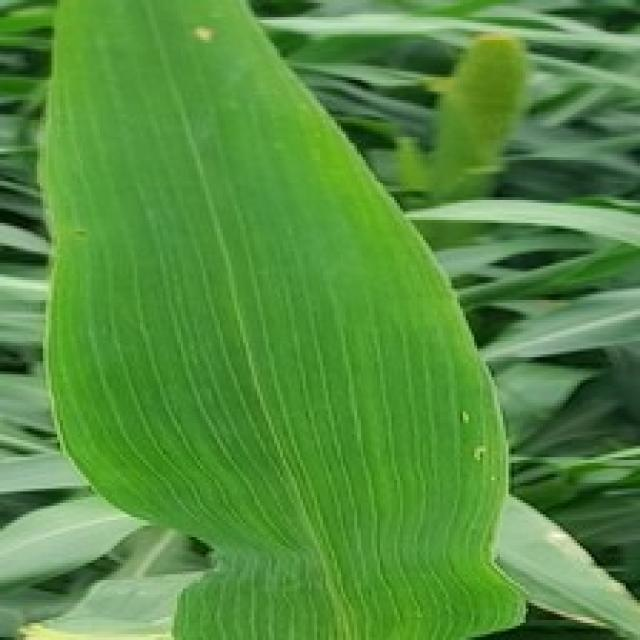Corn: (34, 0, 529, 637)
